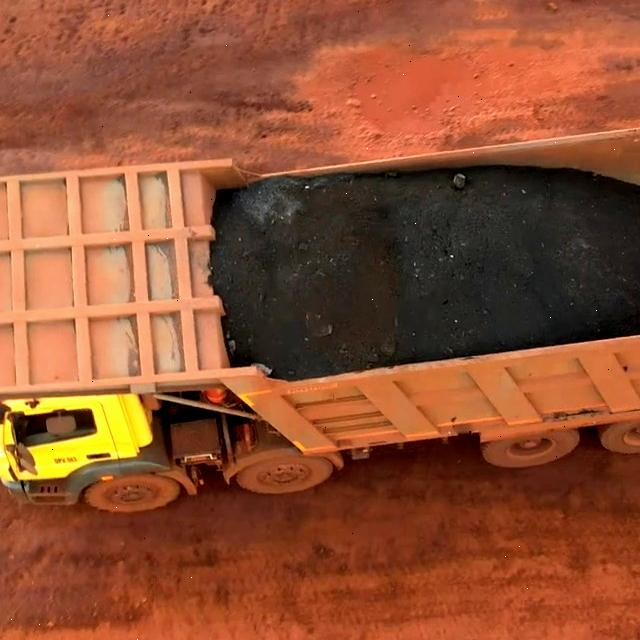Dumper truck: (115, 152, 640, 421), (0, 149, 311, 486)
